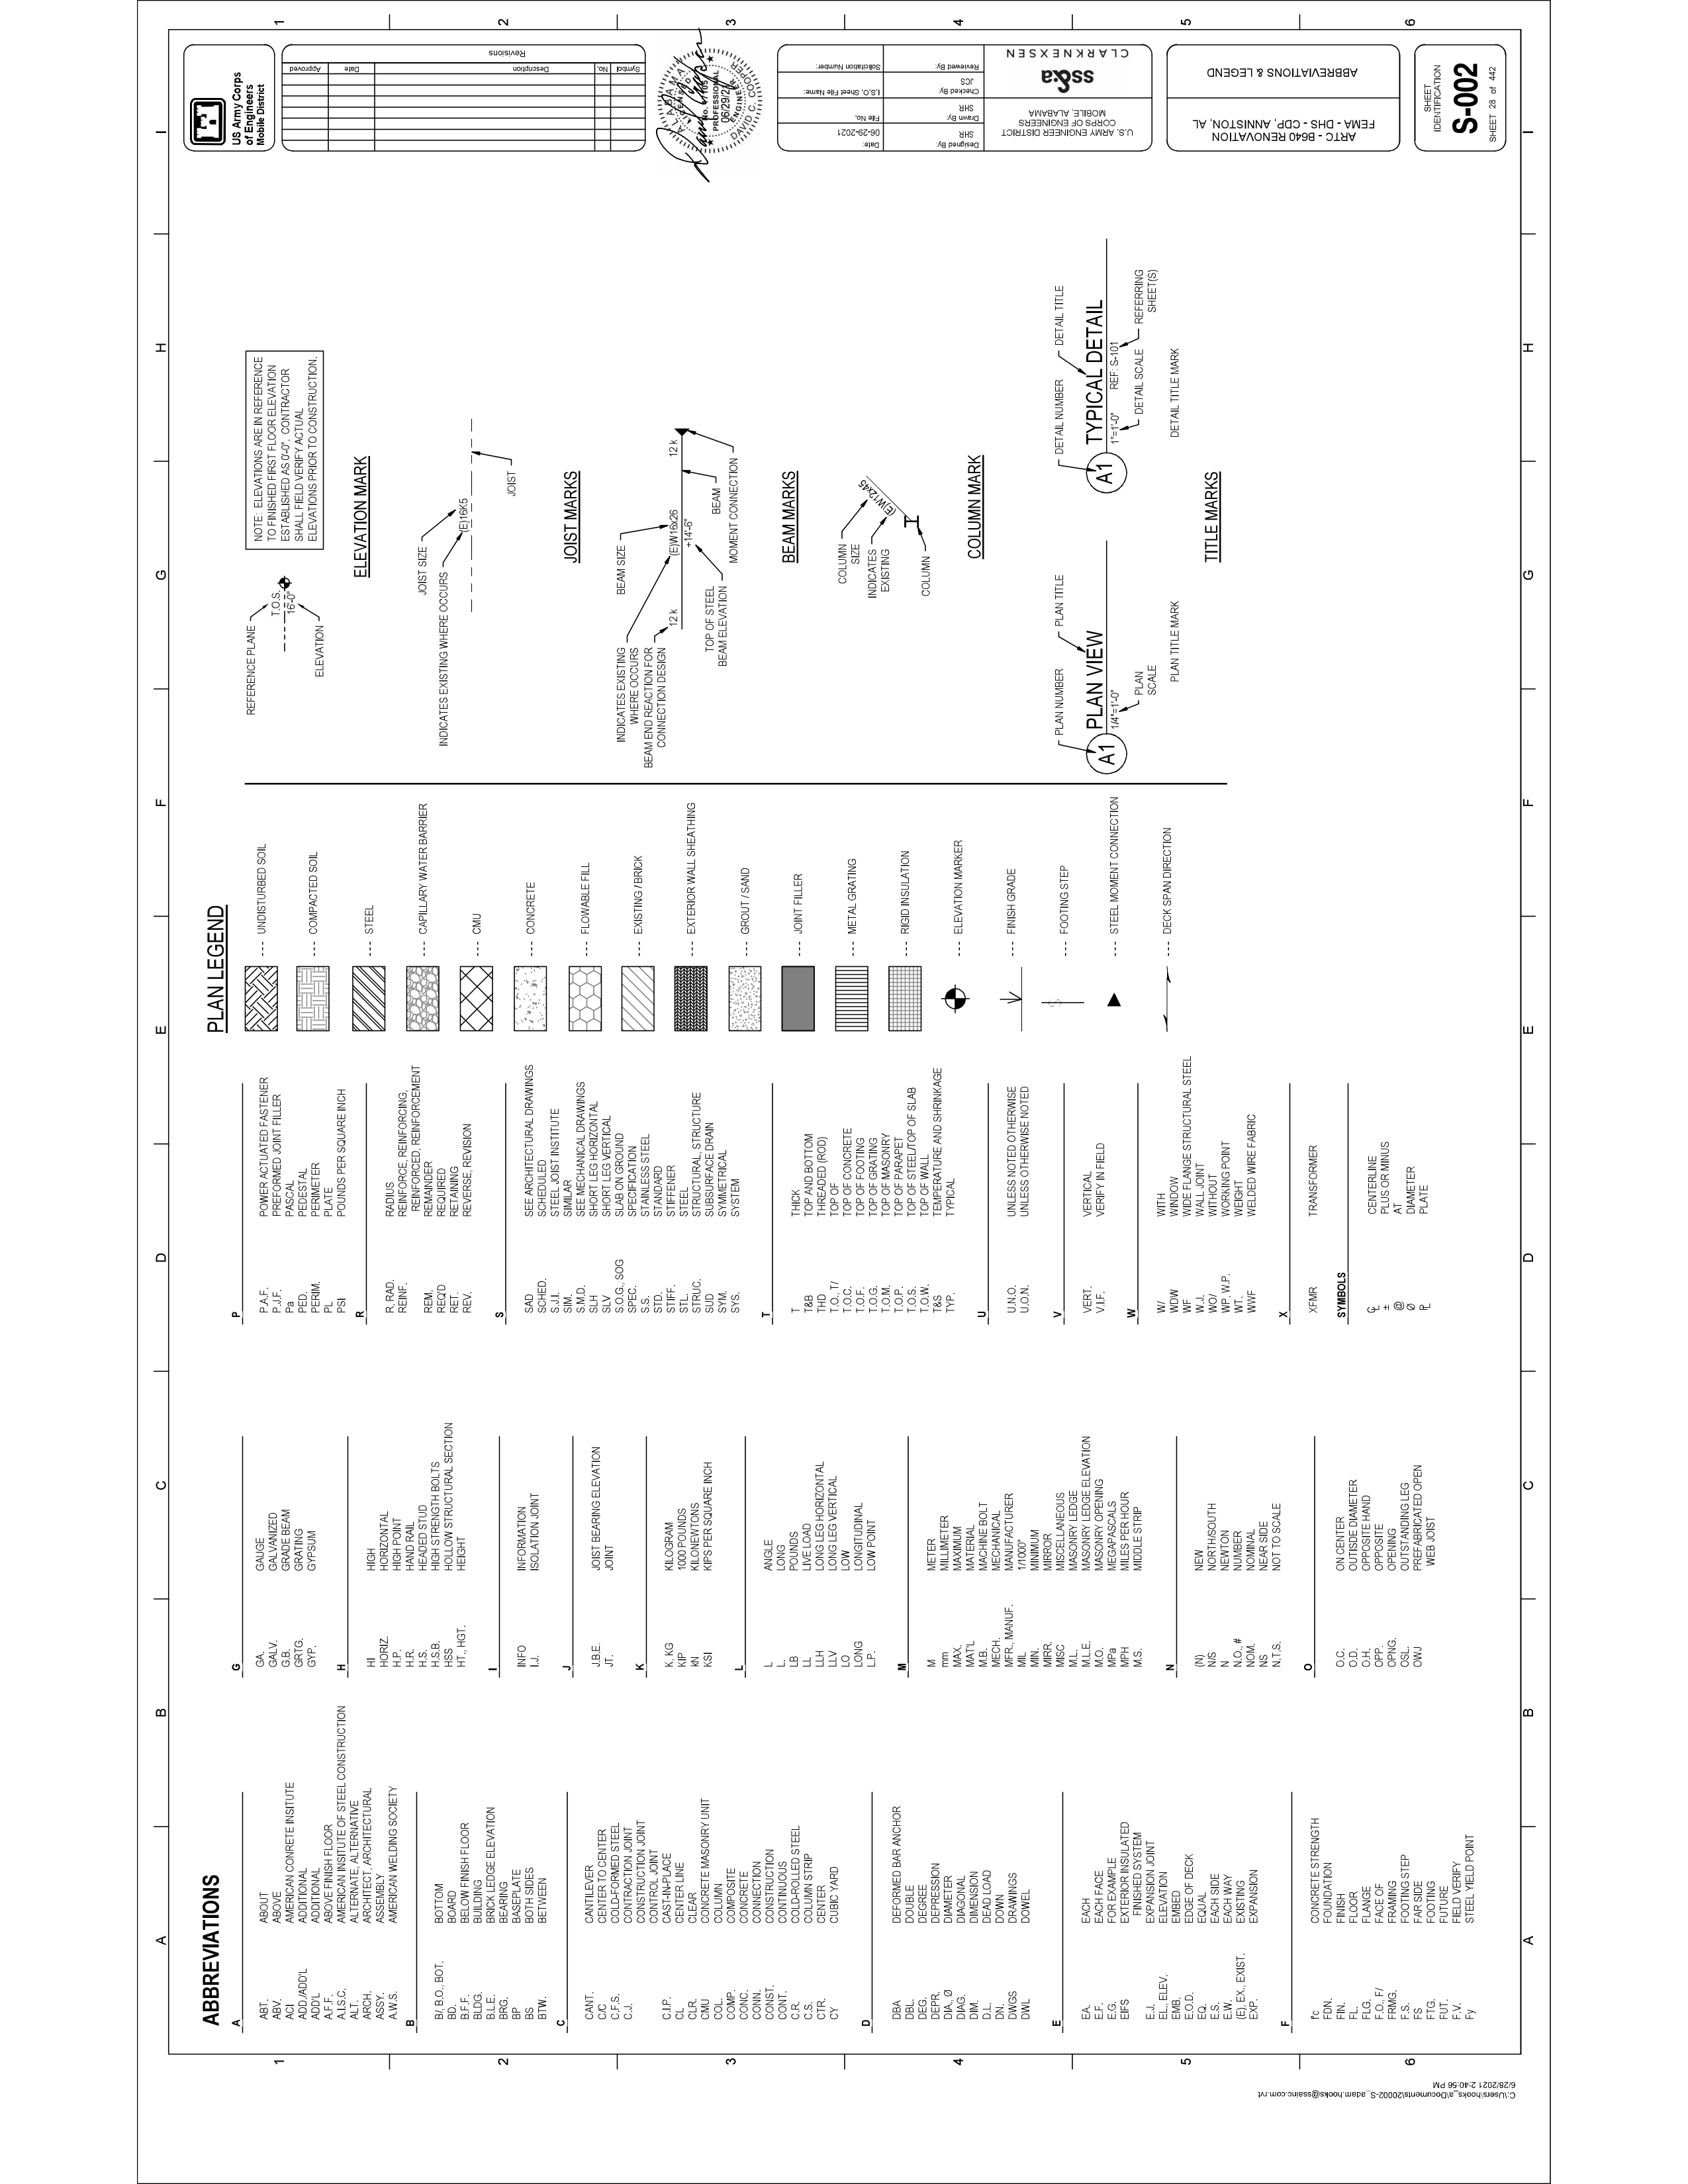detail: (175, 88, 226, 140), (608, 682, 656, 730), (627, 649, 673, 695), (581, 1111, 627, 1157), (428, 1527, 472, 1571), (1219, 1157, 1263, 1201), (292, 459, 330, 496), (1122, 285, 1158, 320)
elevation: (1077, 691, 1119, 733)
